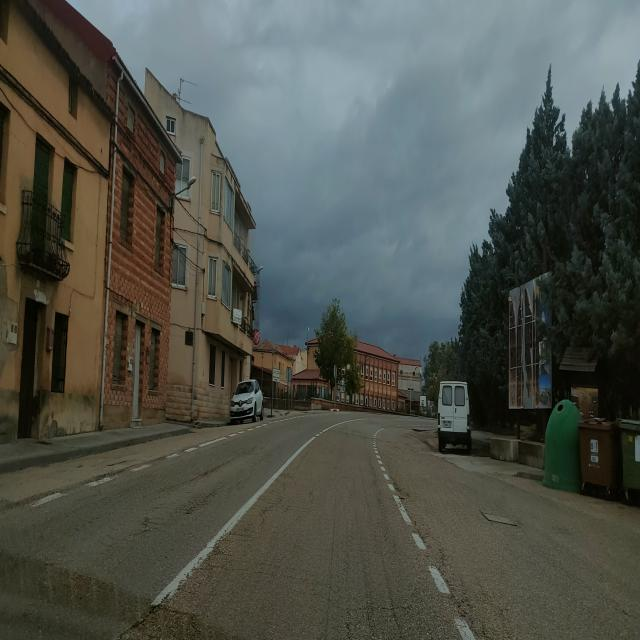Poth-hole: (112, 591, 172, 640), (328, 600, 380, 640), (185, 481, 223, 520), (392, 470, 406, 513)
